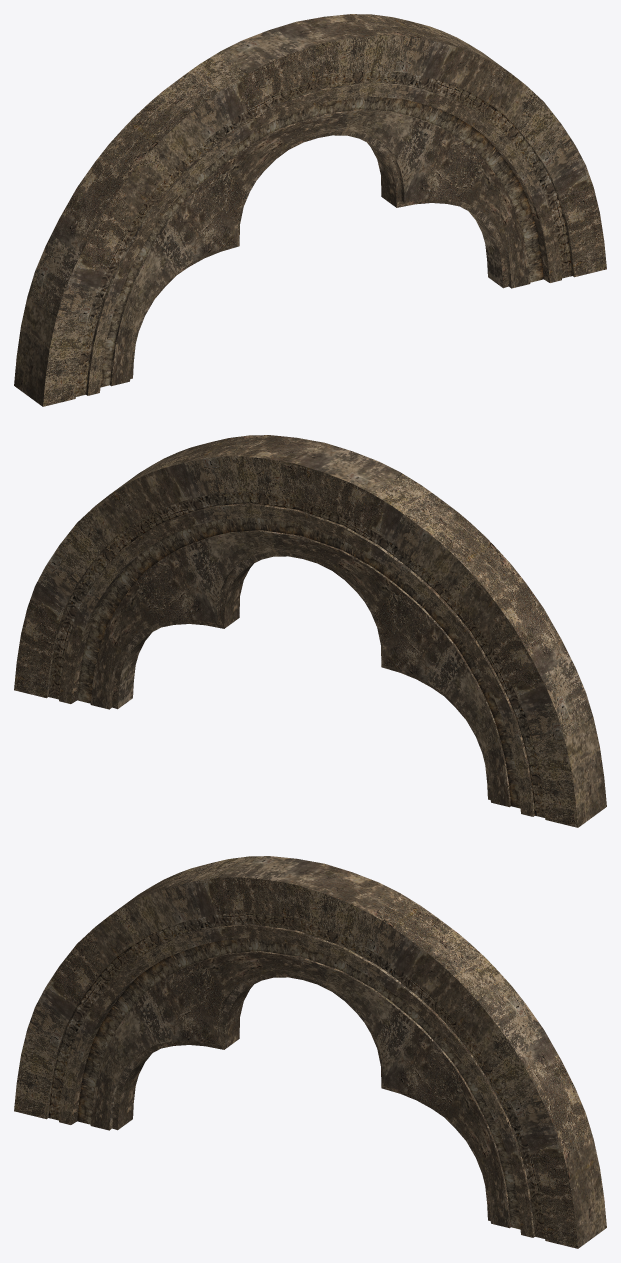
File: materials_5_arch_0.fbx
3 views of the same model, one above another, from view 1: azimuth 30°, elevation 25°; view 2: azimuth 150°, elevation 25°; view 3: azimuth 330°, elevation 25° (orthographic).
Visible parts, largest first — view 1: materials_5_arch_0; view 2: materials_5_arch_0; view 3: materials_5_arch_0.
Part boxes in pixels (<box>): materials_5_arch_0: <box>14,14,606,406</box>; materials_5_arch_0: <box>14,435,606,827</box>; materials_5_arch_0: <box>14,856,606,1248</box>.
Bounding box in the file's own units: 152 × 76.11 × 13.5.
